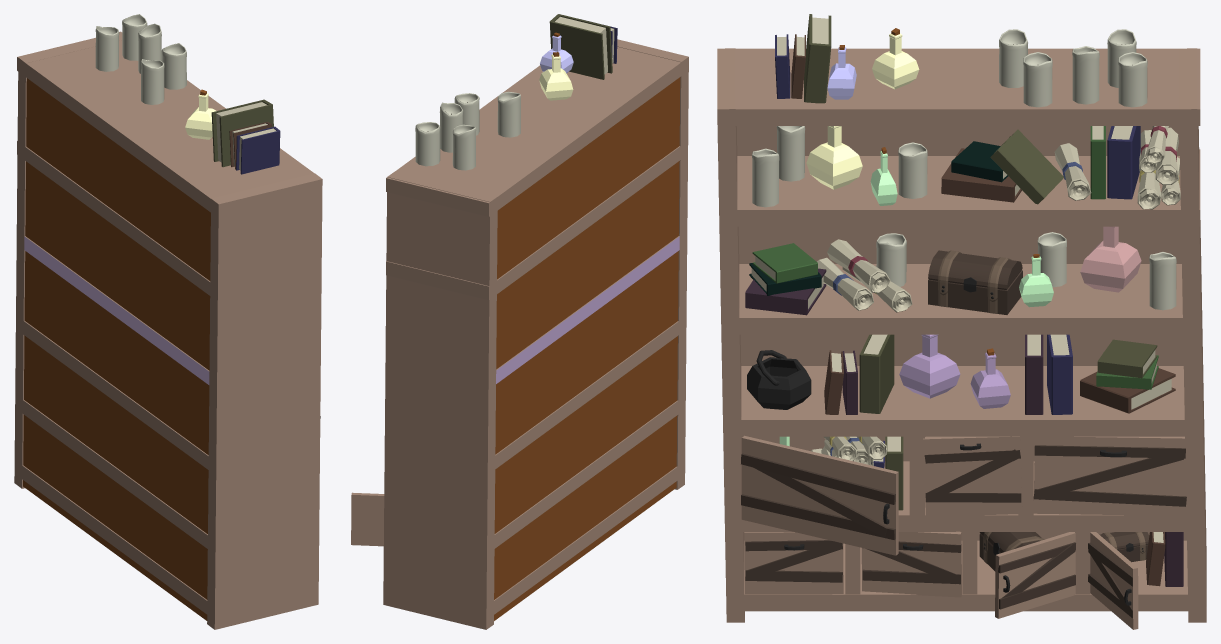
3 views of the same model, side by side, from view 1: azimuth 30°, elevation 25°; view 2: azimuth 150°, elevation 25°; view 3: azimuth 270°, elevation 25° (orthographic). The views are drawn at different scales.
Visible parts, largest first — view 1: pCube16, book6, book5, candle18, candle17, candle1, potion14, candle2, candle3, book7; view 2: pCube16, book6, candle3, candle18, candle1, potion14, candle2, candle17, potion13; view 3: pCube16, chest3, scrollBundle4, cauldron, book8, potion5, book18, potion15, polySurface1361, potion7, book6, book23 (+38 smaller).
Boxes of the visible parts, x1,y1,x2,y2 form: pCube16: [14, 31, 322, 629]; book6: [211, 99, 273, 167]; book5: [236, 126, 280, 174]; candle18: [141, 59, 164, 104]; candle17: [161, 43, 186, 89]; candle1: [95, 26, 119, 71]; potion14: [185, 89, 216, 139]; candle2: [138, 23, 161, 73]; candle3: [122, 14, 147, 60]; book7: [229, 122, 271, 169]; pCube16: [351, 39, 688, 629]; book6: [549, 14, 612, 79]; candle3: [415, 122, 440, 166]; candle18: [497, 91, 520, 137]; candle1: [452, 124, 476, 170]; potion14: [539, 52, 573, 100]; candle2: [439, 102, 463, 152]; candle17: [454, 93, 479, 135]; potion13: [540, 32, 573, 73]; pCube16: [717, 48, 1206, 629]; chest3: [928, 250, 1022, 314]; scrollBundle4: [817, 239, 912, 312]; cauldron: [747, 350, 811, 409]; book8: [990, 129, 1064, 204]; potion5: [1080, 226, 1141, 292]; book18: [859, 334, 894, 413]; potion15: [899, 334, 960, 398]; polySurface1361: [1107, 126, 1140, 199]; potion7: [806, 126, 862, 189]; book6: [804, 14, 831, 103]; book23: [1080, 368, 1175, 413].
Bounding box in the file's own units: 3.61 × 9.53 × 7.4.
